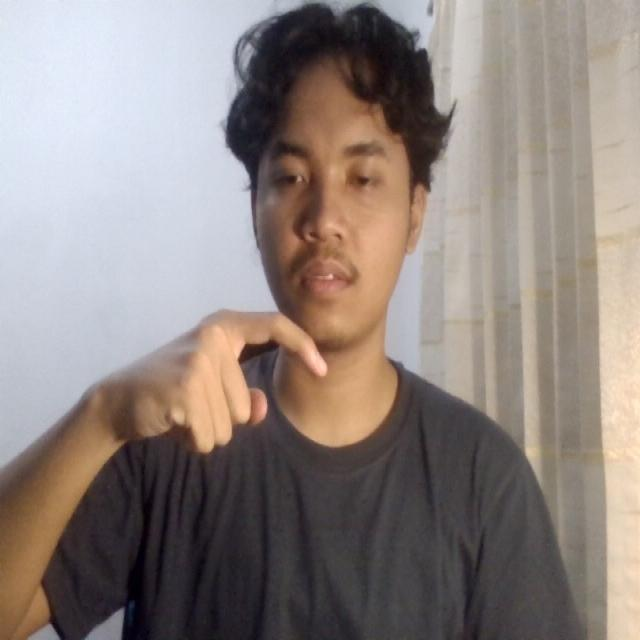N: (116, 283, 360, 481)
